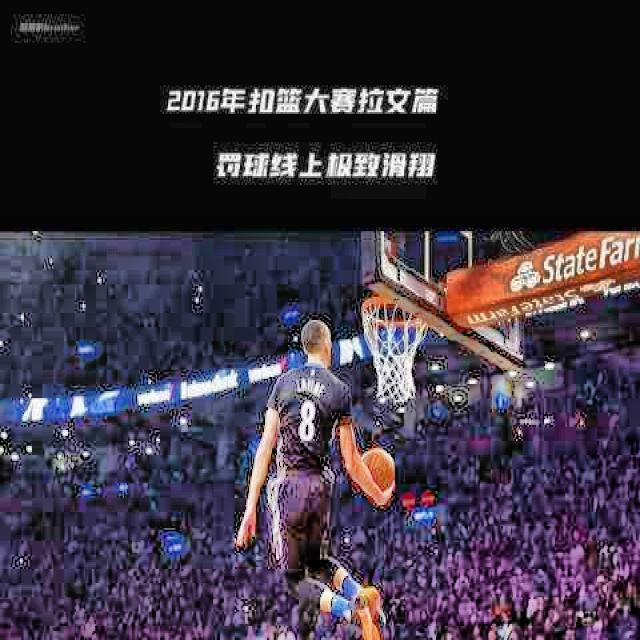rim: (363, 294, 428, 404)
